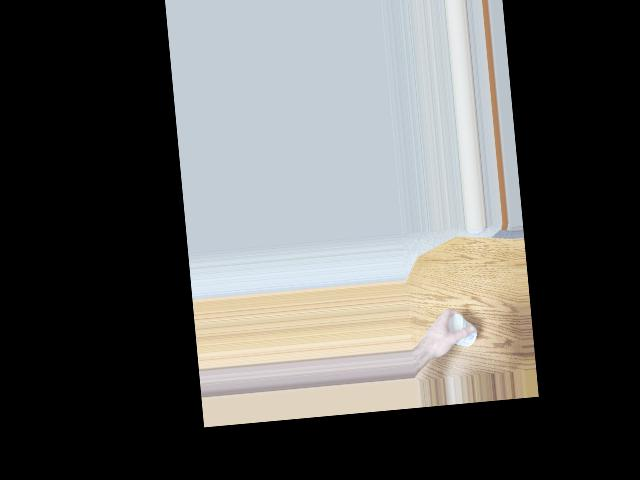cotage: (440, 311, 475, 352)
